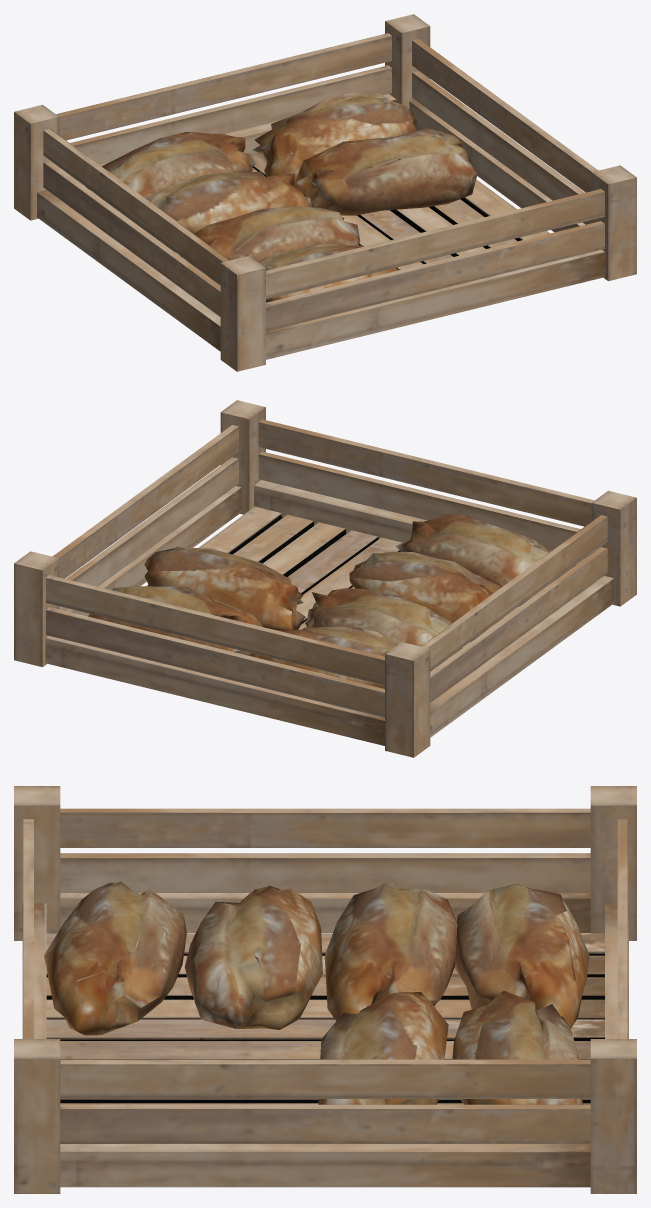
The model's file is MS_BreadStack6.fbx.
3 views of the same model, one above another, from view 1: azimuth 30°, elevation 25°; view 2: azimuth 150°, elevation 25°; view 3: azimuth 270°, elevation 25° (orthographic). The views are drawn at different scales.
Visible parts, largest first — view 1: Cube.002; view 2: Cube.002; view 3: Cube.002.
Boxes of the visible parts, <box> form: Cube.002: <box>14,14,636,371</box>; Cube.002: <box>14,400,636,757</box>; Cube.002: <box>14,786,636,1193</box>.
Size of the model in its own units: 903 by 209 by 872.
1 material, 1 textured.
